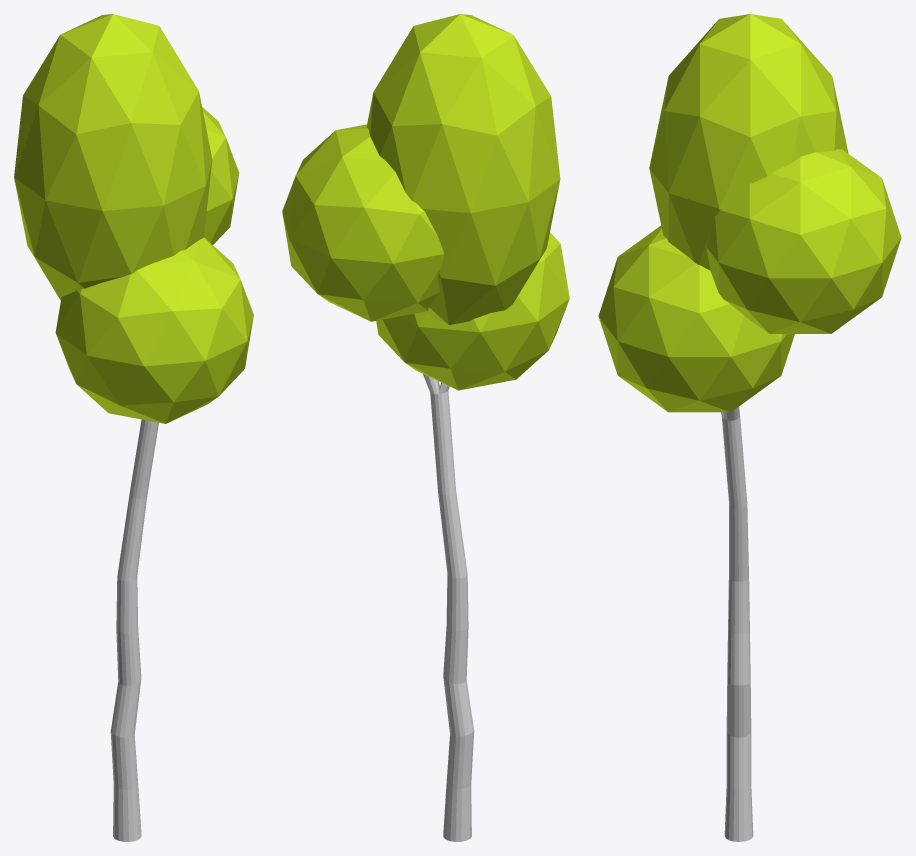
File: birch_a.glb
The picture shows the model from 3 angles, left to right: view 1: azimuth 30°, elevation 25°; view 2: azimuth 150°, elevation 25°; view 3: azimuth 270°, elevation 25°; orthographic projection.
Parts seen in each view (by area): view 1: Birch; view 2: Birch; view 3: Birch.
Boxes of the visible parts, <box> form: Birch: <box>14,14,253,841</box>; Birch: <box>282,14,569,841</box>; Birch: <box>598,14,901,841</box>.
Bounding box in the file's own units: 7.51 × 26.87 × 9.02.
